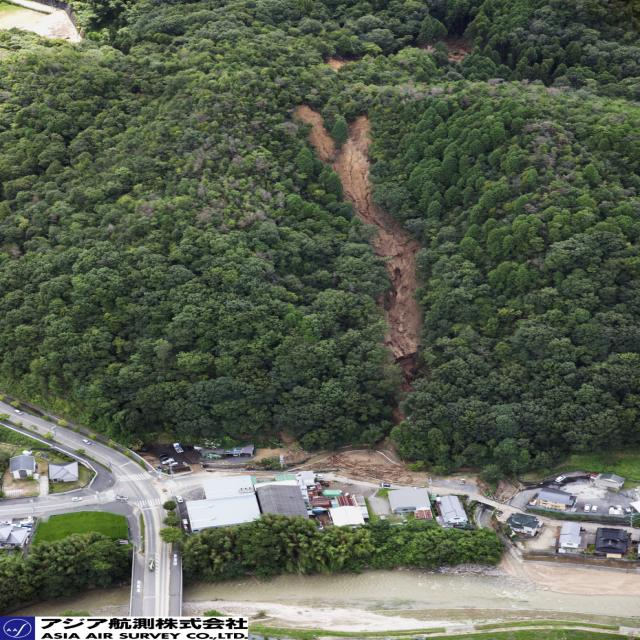Debris-flow: (296, 105, 421, 386), (345, 449, 401, 465), (444, 39, 472, 59)
